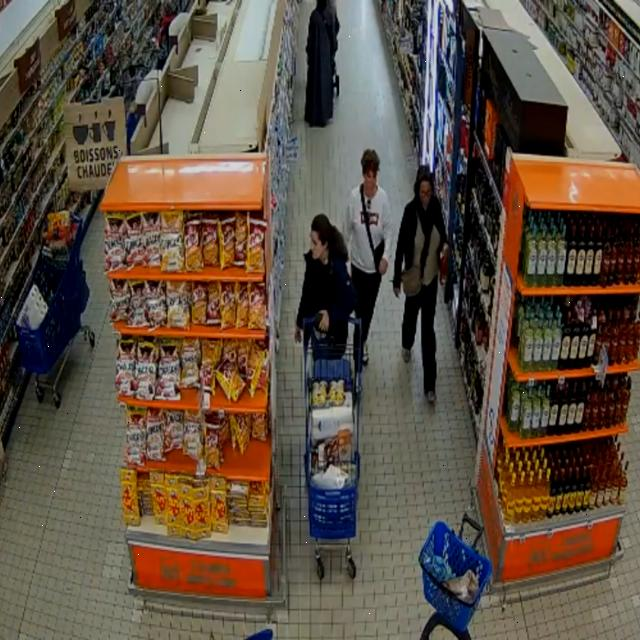article: (440, 243, 448, 286)
bags: (360, 185, 384, 271), (401, 266, 423, 297)
hands: (318, 310, 329, 332), (379, 258, 388, 275), (295, 327, 302, 343), (394, 287, 400, 297)
person: (394, 166, 448, 402), (343, 150, 393, 365), (296, 214, 355, 356), (305, 0, 337, 127)
